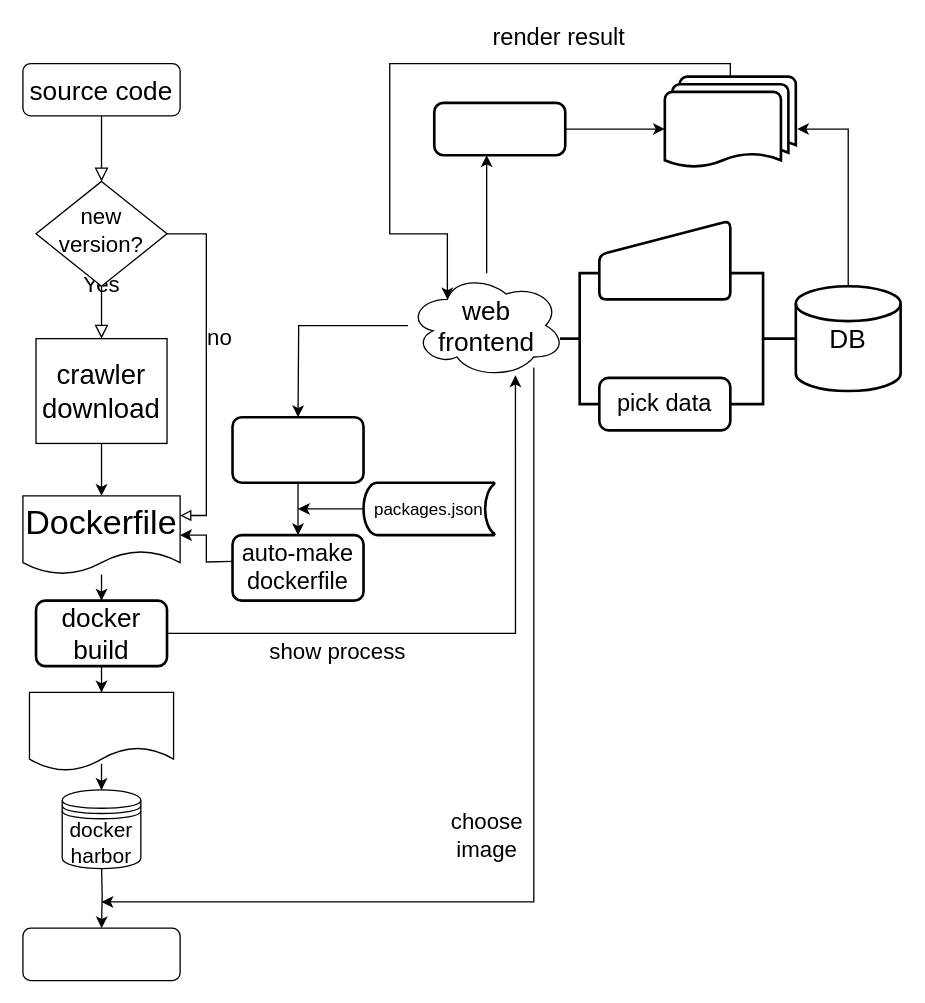
The diagram is 925 pixels wide and 1003 high, and some of its shapes have lost their labels. The centre of each missing label's shape, as x and y in pixels:
"choose recipe" goes at [297,449].
"Docker container" goes at [101,954].
"Docker image" goes at [101,731].
"input data" goes at [664,259].
"Models" goes at [729,122].
"pick model" goes at [499,128].
